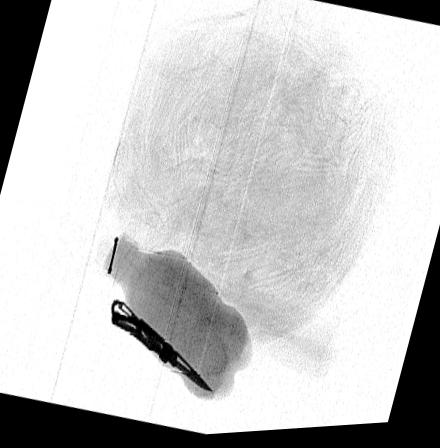Knife: (109, 299, 212, 395)
